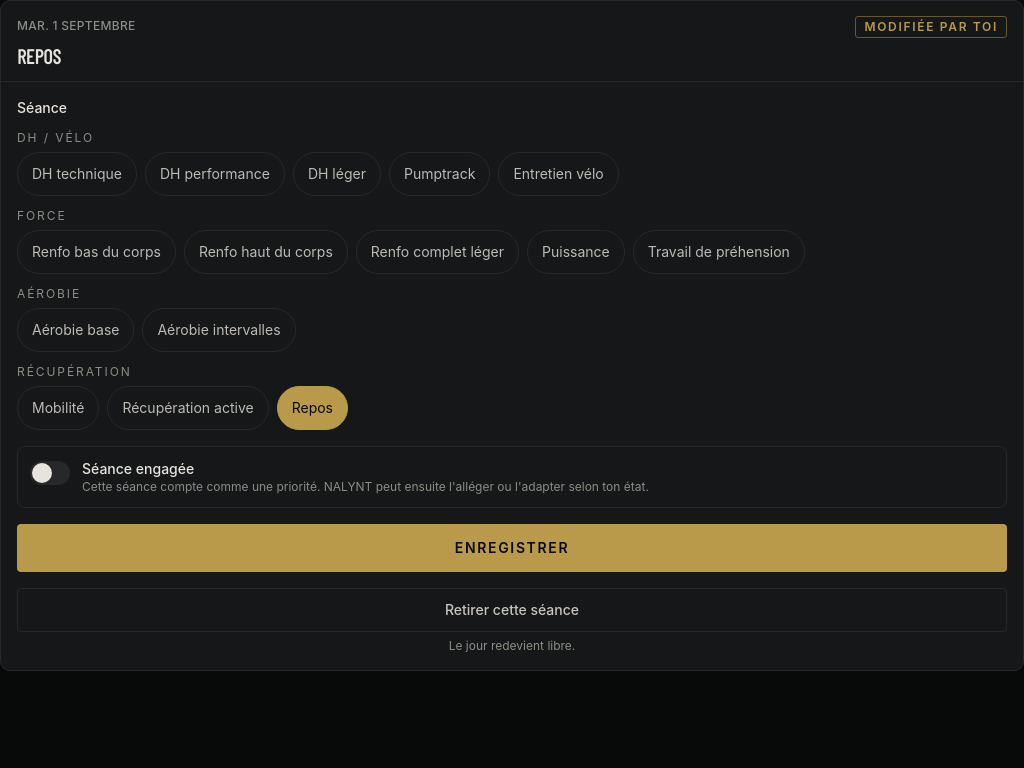
PlanningDayCard — create/edit and day actions (J, K, L, M, N) › L, M: the athlete's own session on a free day → Retirer cette séance deletes it, and the day is Libre again, never Repos
Check: the text "Le jour redevient libre." is shown, box 449,638 -> 575,653
Step 1. Click the button "Retirer cette séance" → (512, 610), box 17,588 -> 1007,632
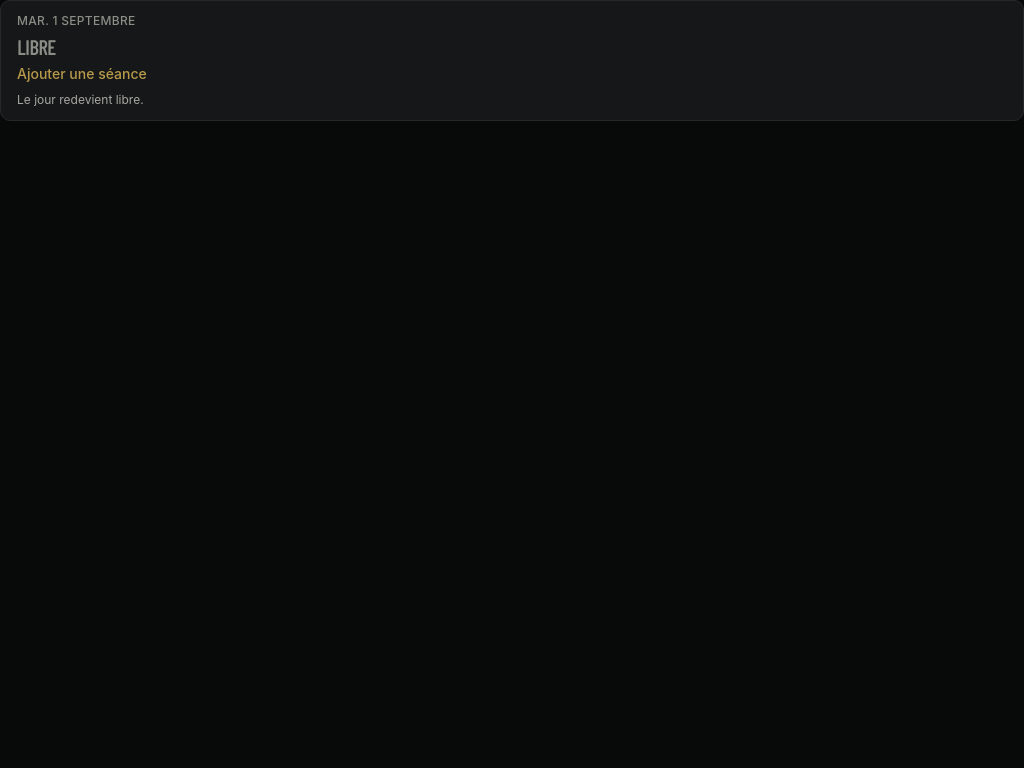
Check: the text "Libre" is shown, box 17,35 -> 56,59
Check: the button "Repos" is gone
